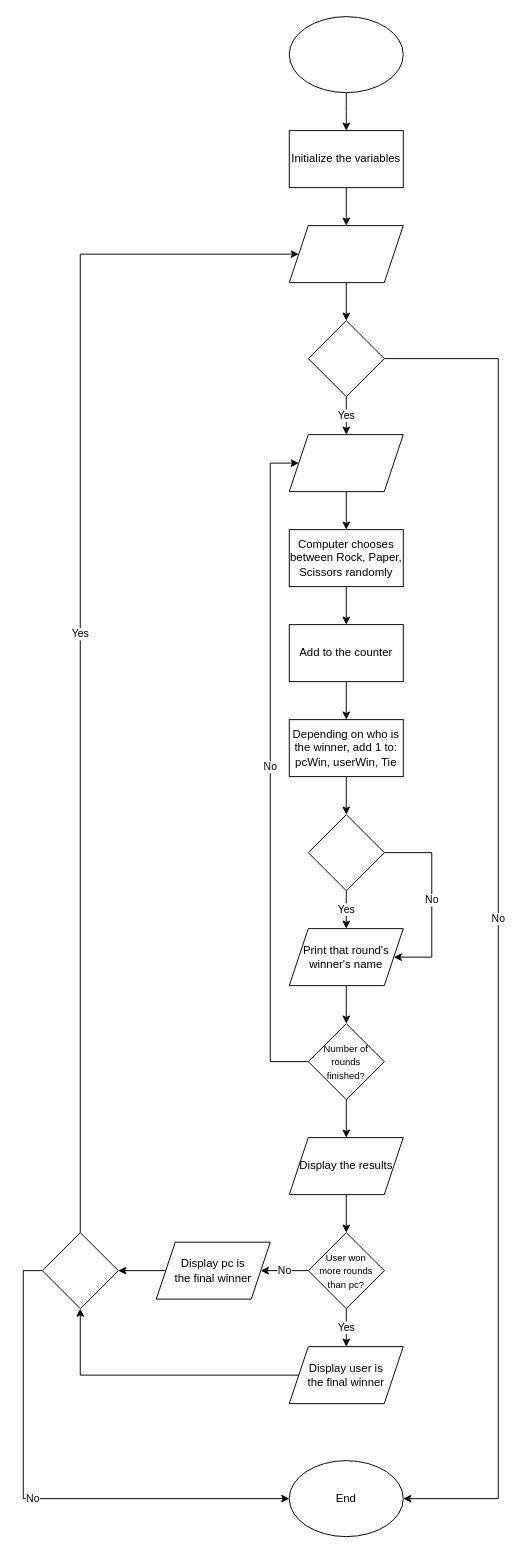
This 523x1553 diagram has some shape labels left out. Here are the shapes that lost their labels. From the top down, the centre of each, then its label:
point 345,54: Start
point 345,254: Ask how many rounds user wants to play?
point 345,358: number of rounds in bound?
point 345,463: Prompt for user's choice between Rock, Paper, Scissors
point 345,852: If it's a tie, choose the winner randomly?
point 79,1270: Ask if user wants to play again
